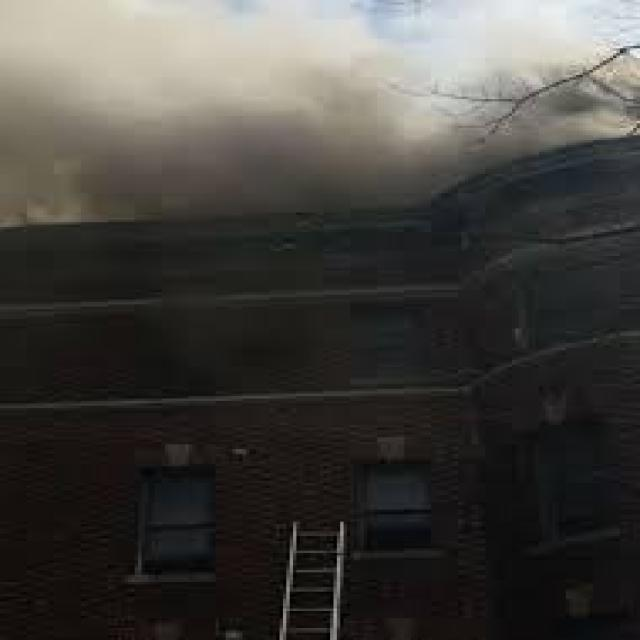Smoke: (82, 114, 437, 210), (12, 69, 68, 205)
